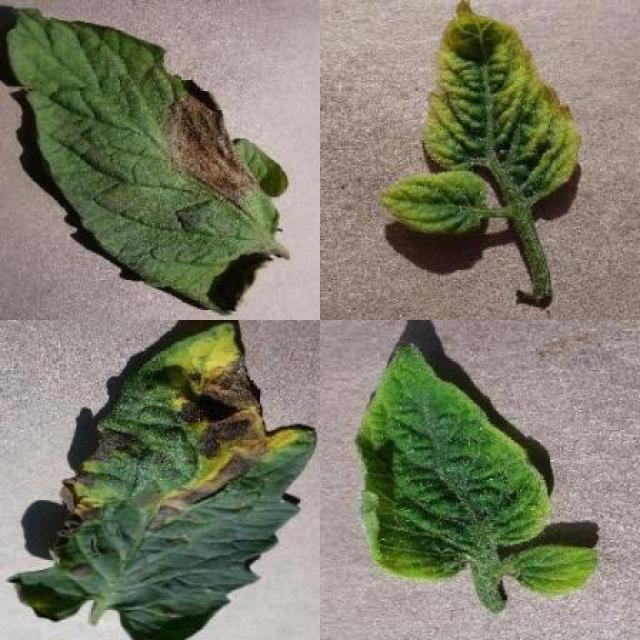Early Blight: (11, 323, 318, 640)
Late Blight: (2, 2, 291, 319)
Yellow Leaf Curl Virus: (355, 338, 549, 582), (423, 0, 580, 203), (381, 169, 488, 234), (506, 542, 601, 594)
